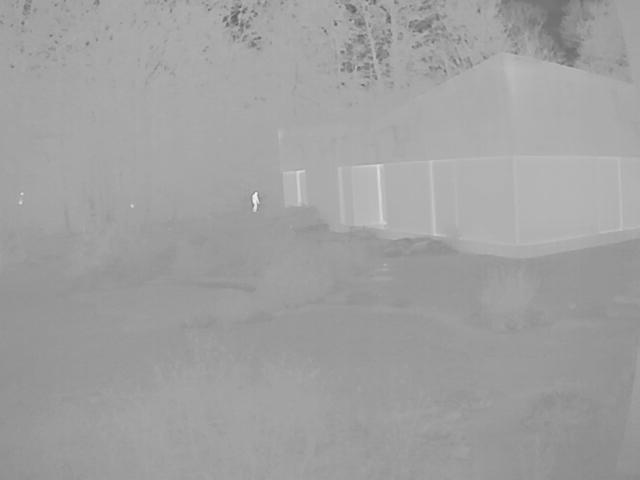person: (253, 191, 263, 214)
